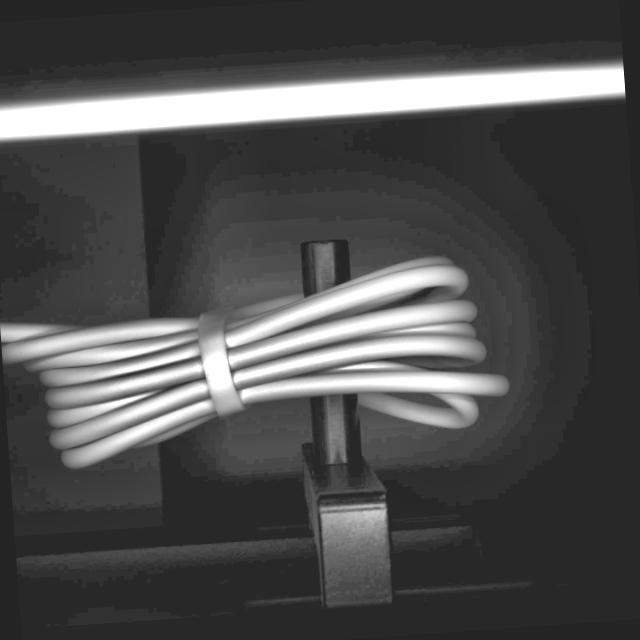Cable: (0, 246, 516, 475)
